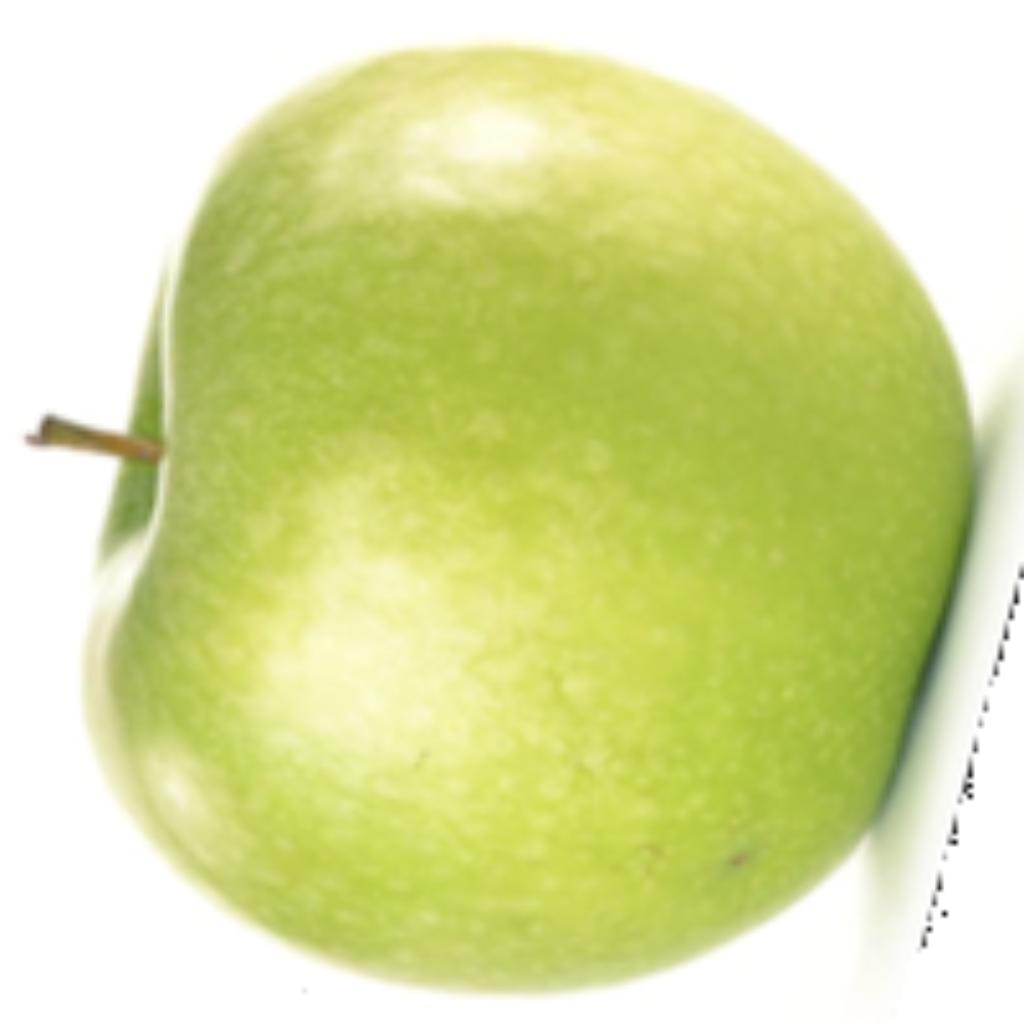apple: (15, 31, 1019, 998)
